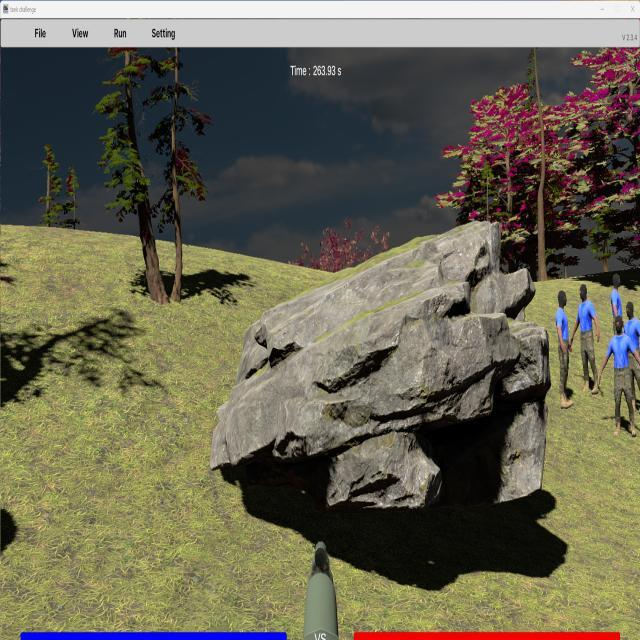Human: (598, 314, 640, 438), (570, 284, 601, 398), (555, 289, 574, 404), (611, 275, 624, 355)
